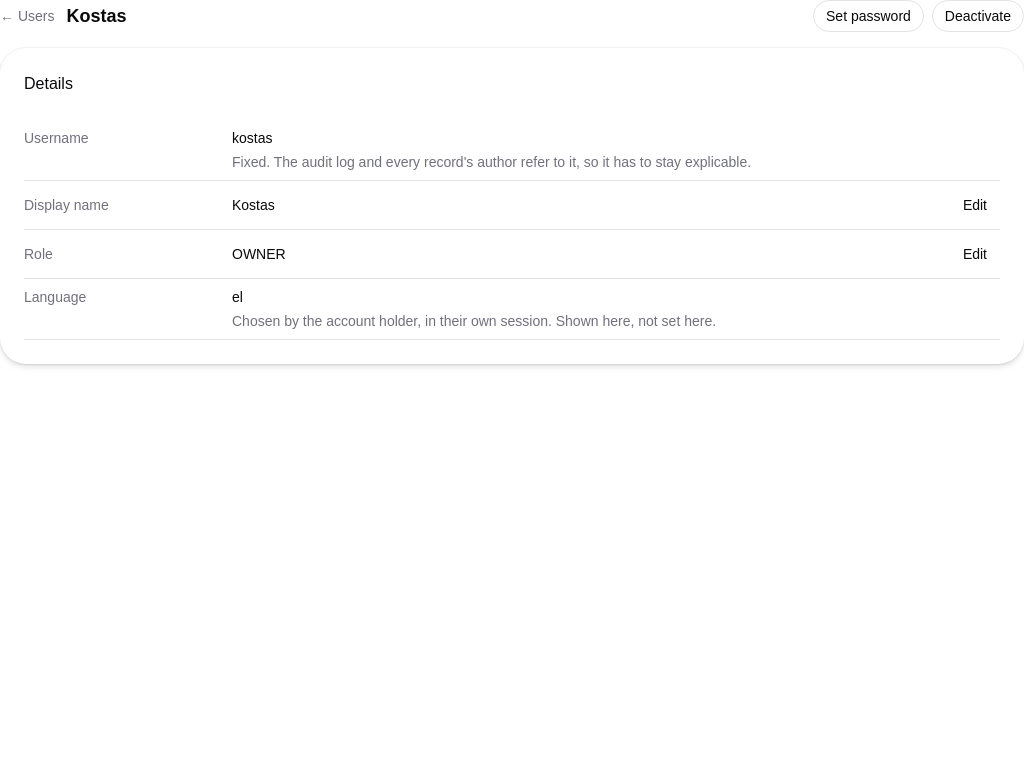
Scenario: handing over a password › will not close until somebody says they have taken it
This screenshot has width=1024, height=768.
Later steps or results of the test are not shown.
Expected: the heading "Kostas" is shown, x1=66 y1=2 x2=126 y2=30
Click the button "Set password". click: (868, 16)
box: x1=813 y1=0 x2=924 y2=32
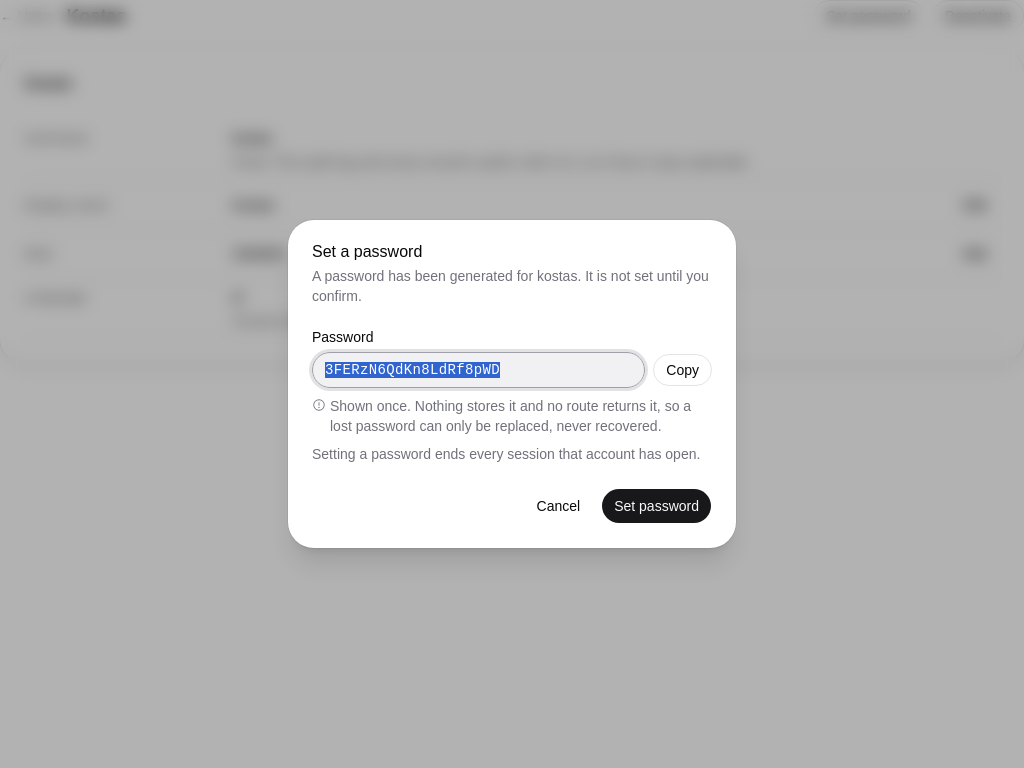
Click the button "Set password". click: (657, 506)
box: x1=601 y1=488 x2=712 y2=524
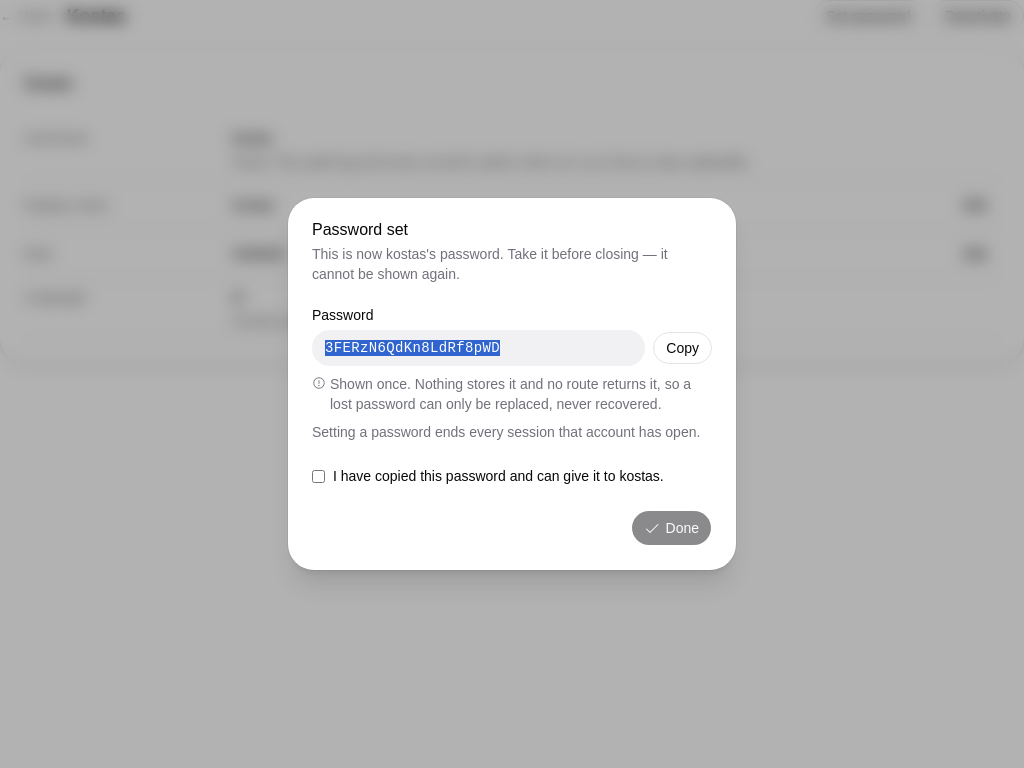
Result: the button "Done" is disabled at x1=630 y1=510 x2=712 y2=546
Click the checkbox. click: (318, 476)
box: x1=312 y1=470 x2=325 y2=483
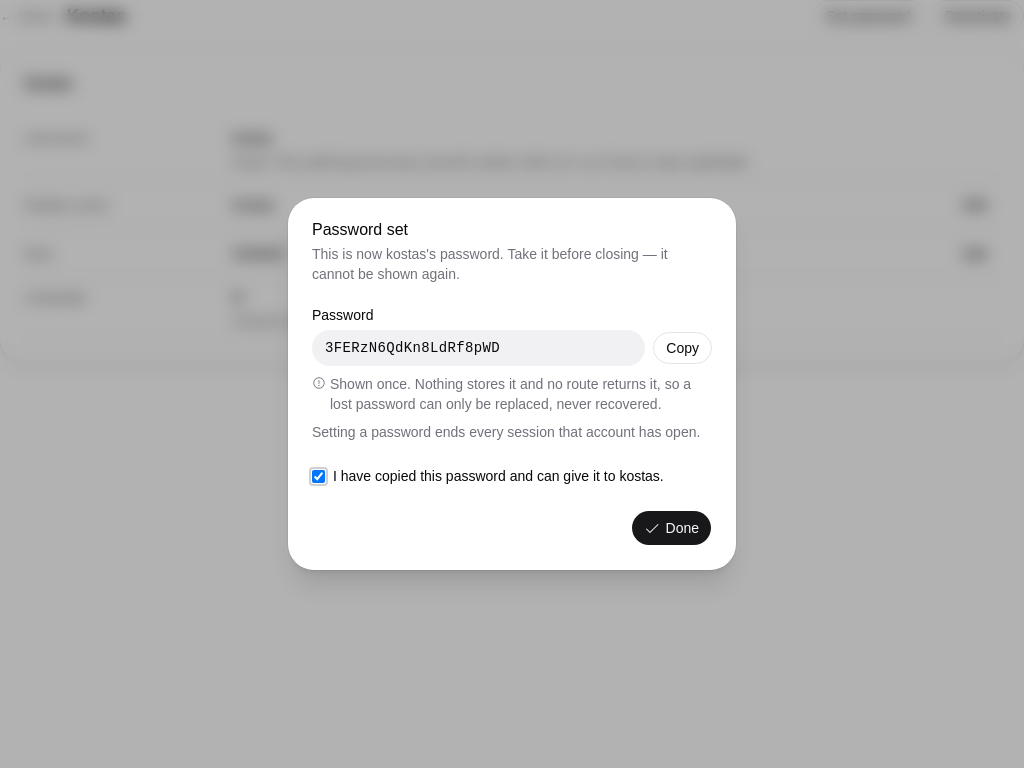
Result: the button "Done" is enabled at x1=630 y1=510 x2=712 y2=546
